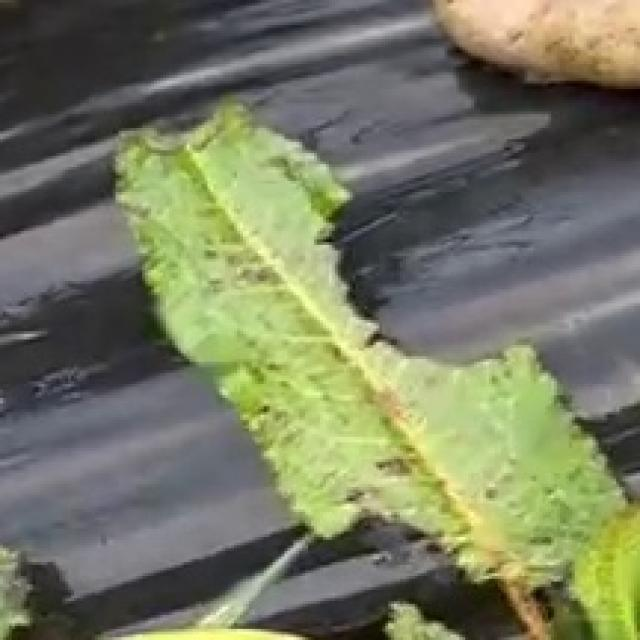organic waste: (6, 54, 640, 640)
